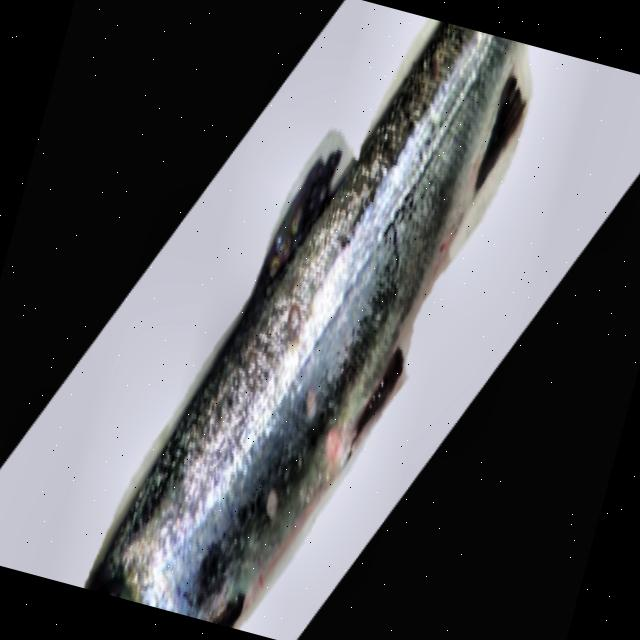mild_red: (84, 21, 530, 626)
